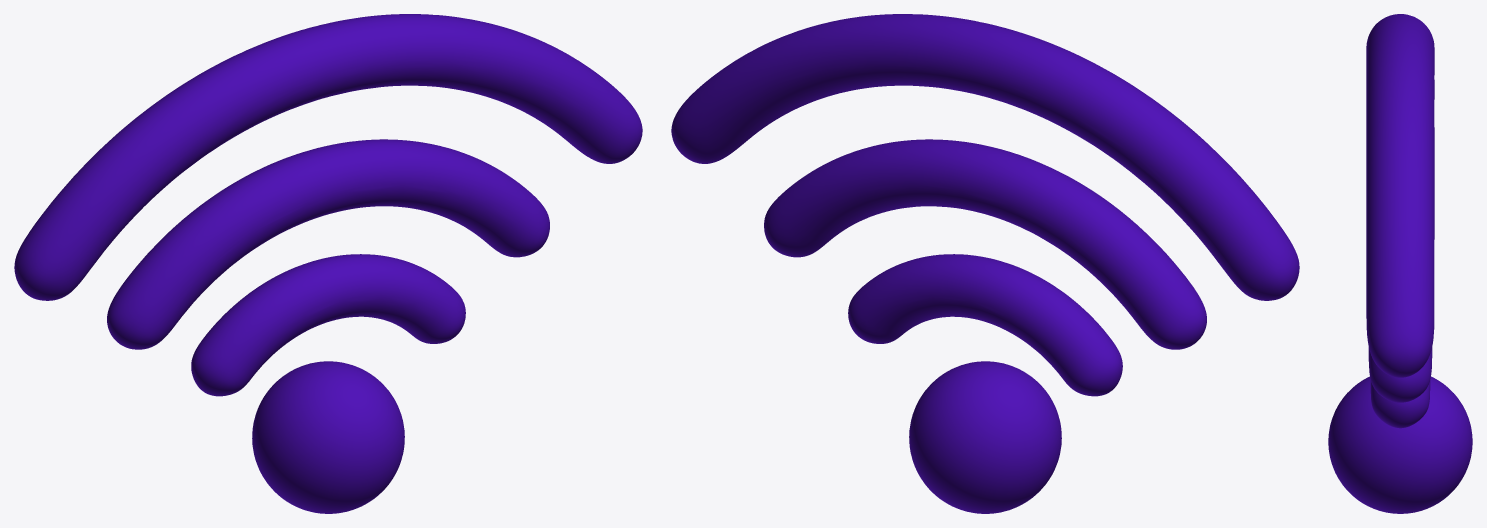
File: wifi.glb
3 views of the same model, side by side, from view 1: azimuth 30°, elevation 25°; view 2: azimuth 150°, elevation 25°; view 3: azimuth 270°, elevation 25° (orthographic). The views are drawn at different scales.
Visible parts, largest first — view 1: wif; view 2: wif; view 3: wif.
Part boxes in pixels (box(x1,y1,x2,y2)): wif: box(14, 14, 642, 513); wif: box(671, 14, 1299, 513); wif: box(1328, 14, 1472, 513).
Size of the model in its own units: 2.01 by 1.49 by 0.4291.
